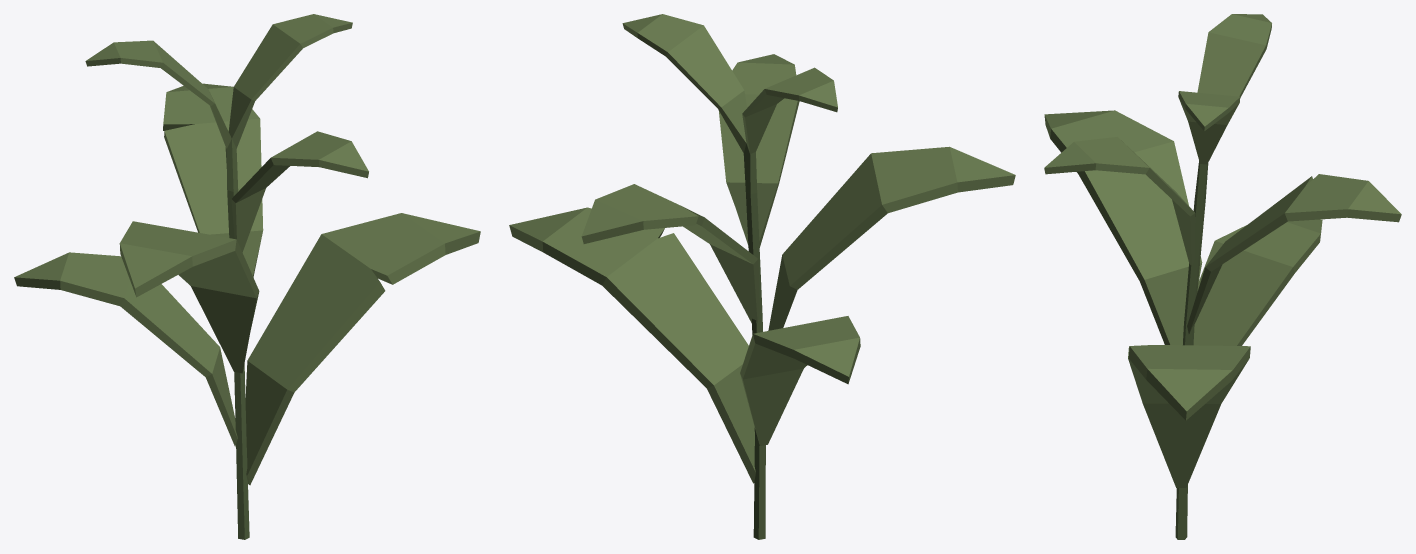
File: SM_Envr_Nature_Plant_05.fbx
3 views of the same model, side by side, from view 1: azimuth 30°, elevation 25°; view 2: azimuth 150°, elevation 25°; view 3: azimuth 270°, elevation 25° (orthographic). The views are drawn at different scales.
Parts seen in each view (by area): view 1: SM_Envr_Nature_Plant_05; view 2: SM_Envr_Nature_Plant_05; view 3: SM_Envr_Nature_Plant_05.
Boxes of the visible parts, <box> form: SM_Envr_Nature_Plant_05: <box>14,14,480,539</box>; SM_Envr_Nature_Plant_05: <box>509,14,1015,539</box>; SM_Envr_Nature_Plant_05: <box>1044,14,1401,539</box>.
Size of the model in its own units: 108 by 120 by 81.42.
